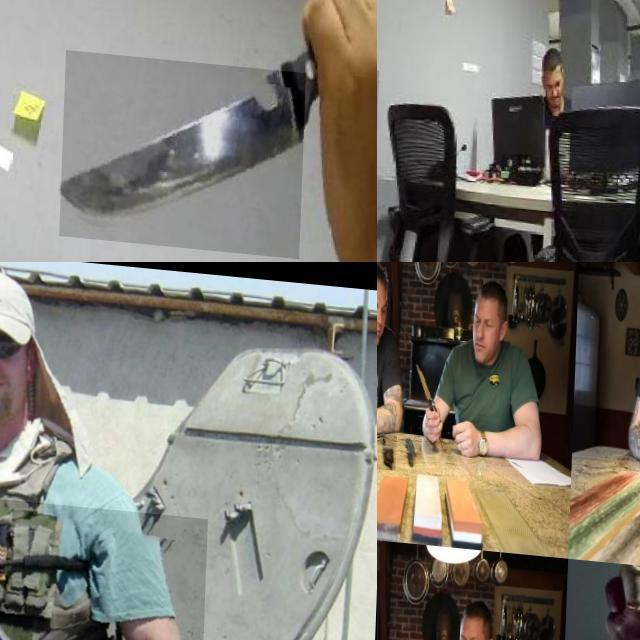-: (64, 45, 308, 249), (377, 59, 402, 169), (414, 359, 448, 434), (379, 432, 399, 468), (404, 432, 419, 468)
gun-knife-thesis - v11 Yolov5 augmented: (0, 481, 209, 640)
